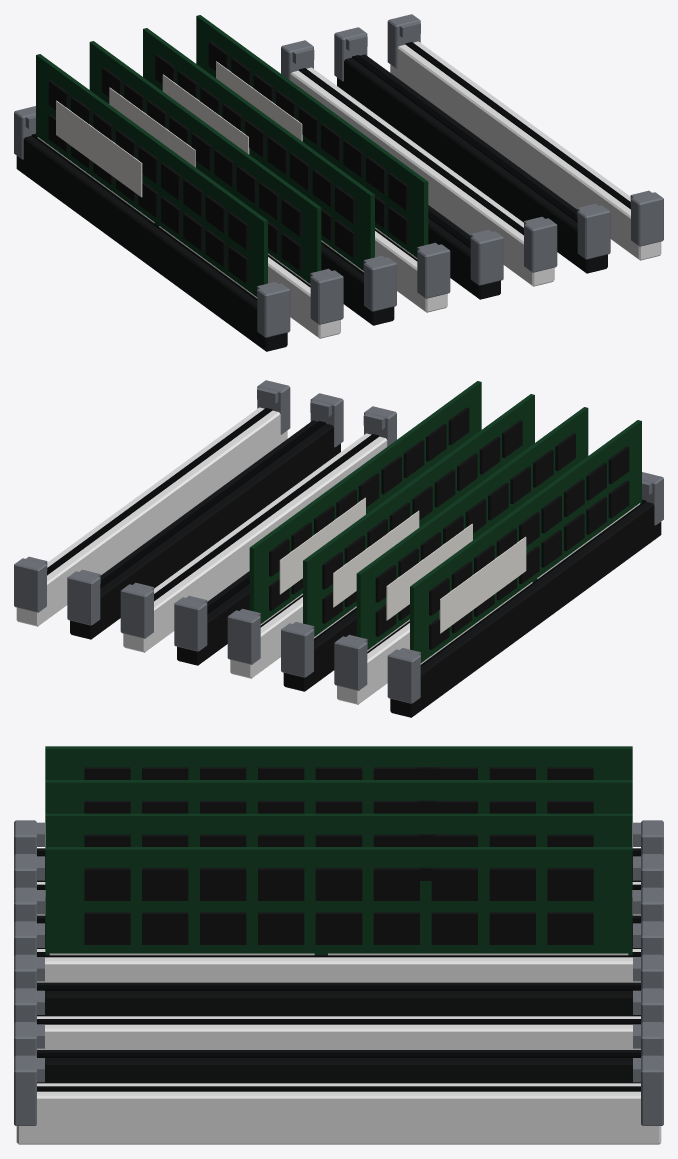
File: hwm_ram_ddr3_96gb.glb
3 renders of one model, top to bottom at view 1: azimuth 30°, elevation 25°; view 2: azimuth 150°, elevation 25°; view 3: azimuth 270°, elevation 25°, orthographic. The views are drawn at different scales.
Visible parts, largest first — view 1: Slots, Stick_0, Stick_1, Stick_3, Stick_2, Latch_1_1, Latch_4_1, Latch_6_1, Latch_5_1, Latch_0_1, Latch_3_1, Latch_7_1 (+5 smaller); view 2: Slots, Stick_0, Stick_1, Stick_3, Stick_2, Latch_1_0, Latch_4_0, Latch_6_0, Latch_5_0, Latch_0_0, Latch_3_0, Latch_7_0 (+5 smaller); view 3: Slots, Stick_3, Stick_0, Stick_1, Stick_2, Latch_7_0, Latch_7_1, Latch_2_0, Latch_2_1, Latch_4_0, Latch_4_1, Latch_0_0 (+9 smaller).
Part boxes in pixels (<box>): Slots: <box>16,41,661,351</box>; Stick_0: <box>36,54,267,298</box>; Stick_1: <box>89,41,321,285</box>; Stick_3: <box>196,15,428,259</box>; Stick_2: <box>143,28,374,272</box>; Latch_1_1: <box>310,268,343,324</box>; Latch_4_1: <box>470,229,503,285</box>; Latch_6_1: <box>577,203,610,259</box>; Latch_5_1: <box>524,216,557,272</box>; Latch_0_1: <box>257,282,290,337</box>; Latch_3_1: <box>417,242,450,298</box>; Latch_7_1: <box>630,190,663,246</box>; Slots: <box>16,407,661,717</box>; Stick_0: <box>410,420,641,664</box>; Stick_1: <box>356,407,588,651</box>; Stick_3: <box>249,381,481,625</box>; Stick_2: <box>303,394,534,638</box>; Latch_1_0: <box>334,634,367,690</box>; Latch_4_0: <box>174,595,207,651</box>; Latch_6_0: <box>67,569,100,625</box>; Latch_5_0: <box>120,582,153,638</box>; Latch_0_0: <box>387,648,420,703</box>; Latch_3_0: <box>227,608,260,664</box>; Latch_7_0: <box>14,556,47,612</box>; Slots: <box>16,848,661,1144</box>; Stick_3: <box>45,847,632,955</box>; Stick_0: <box>45,746,632,779</box>; Stick_1: <box>45,780,632,813</box>; Stick_2: <box>45,813,632,846</box>; Latch_7_0: <box>633,1055,663,1125</box>; Latch_7_1: <box>14,1055,44,1125</box>; Latch_2_0: <box>633,887,663,922</box>; Latch_2_1: <box>14,887,44,922</box>; Latch_4_0: <box>633,954,663,989</box>; Latch_4_1: <box>14,954,44,989</box>; Latch_0_0: <box>633,820,663,855</box>.
Bounding box in the file's own units: 0.1346 × 0.0389 × 0.1472.
